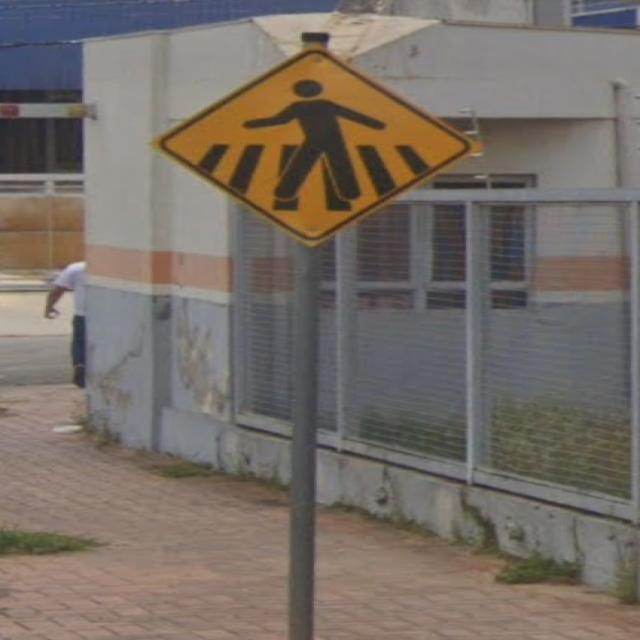pedestrian crossing: (147, 42, 499, 250)
